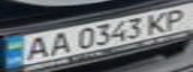0: (75, 25, 96, 50)
3: (124, 16, 148, 39), (93, 21, 115, 46)
4: (109, 19, 130, 43)
A: (18, 34, 54, 62), (42, 29, 75, 56)
K: (142, 9, 175, 35)
P: (160, 6, 193, 30)
